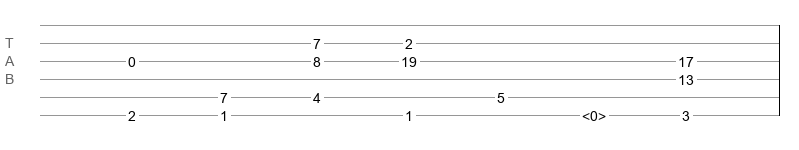0: (128, 54, 136, 64)
1: (220, 108, 228, 118), (405, 108, 413, 118)
13: (678, 72, 694, 82)
17: (678, 54, 694, 64)
19: (401, 54, 417, 64)
2: (128, 108, 136, 118), (405, 36, 413, 46)
3: (682, 108, 690, 118)
4: (313, 90, 321, 100)
5: (497, 90, 505, 100)
7: (220, 90, 228, 100), (313, 36, 321, 46)
8: (313, 54, 321, 64)
harmonic: (582, 108, 606, 118)
